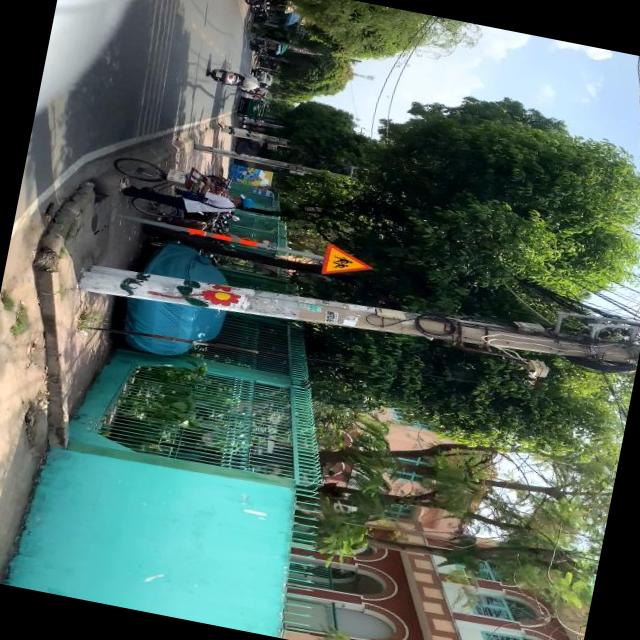W-225: (319, 240, 380, 284)
